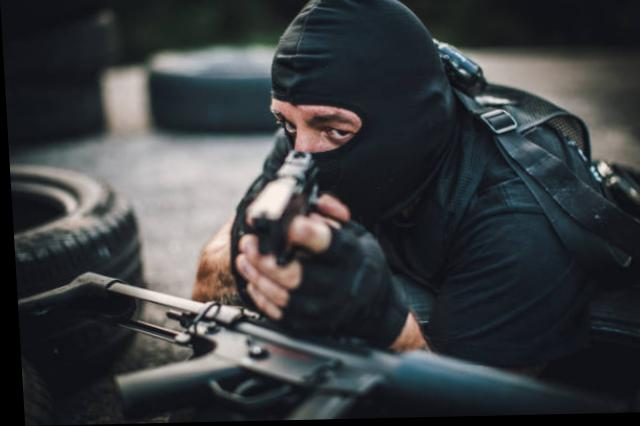other: (181, 0, 636, 354)
